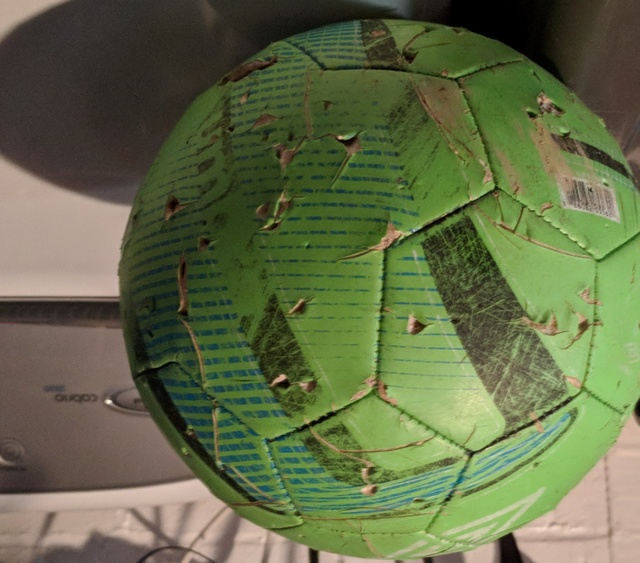ball: (116, 20, 640, 557)
